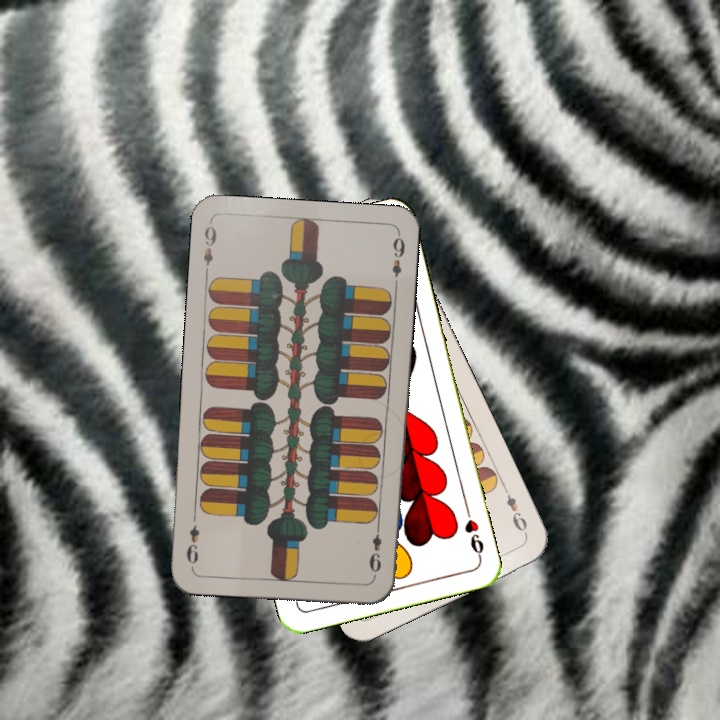E9: (502, 490, 531, 538), (199, 219, 220, 278), (365, 520, 385, 579)
H9: (460, 504, 487, 562)
